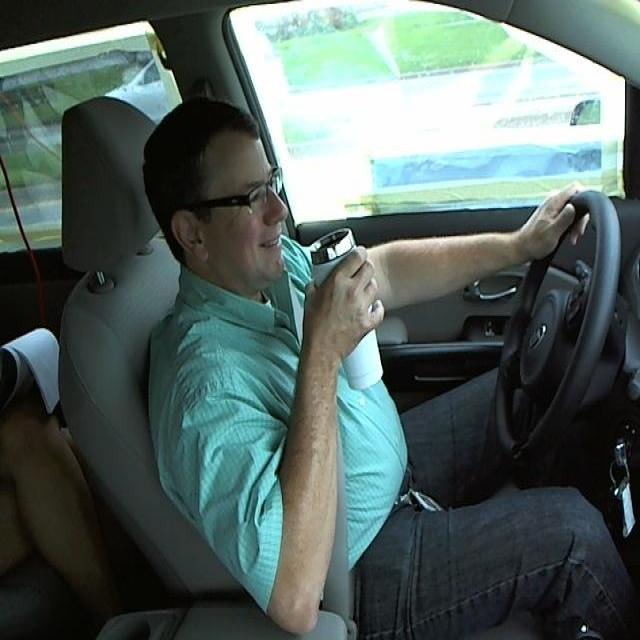drinking: (305, 222, 387, 390)
